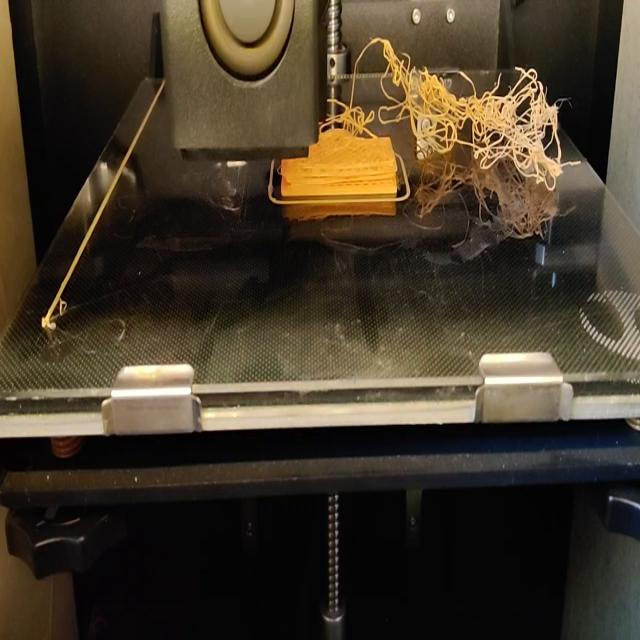spaghetti: (323, 34, 587, 191)
